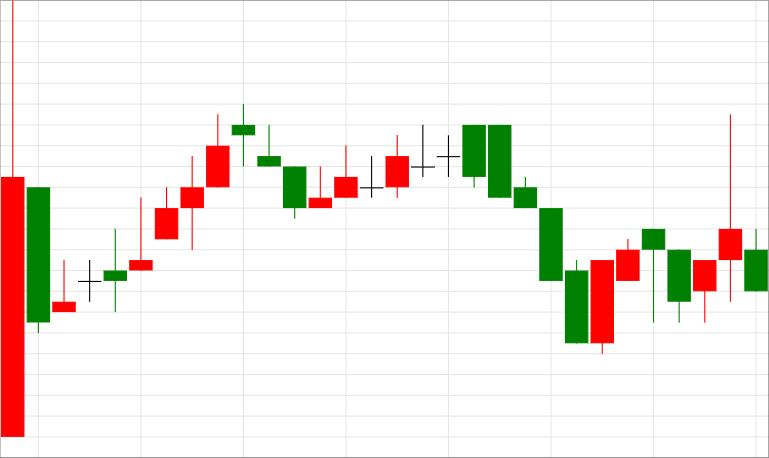bullish_engulfing_rise: (437, 124, 613, 354)
